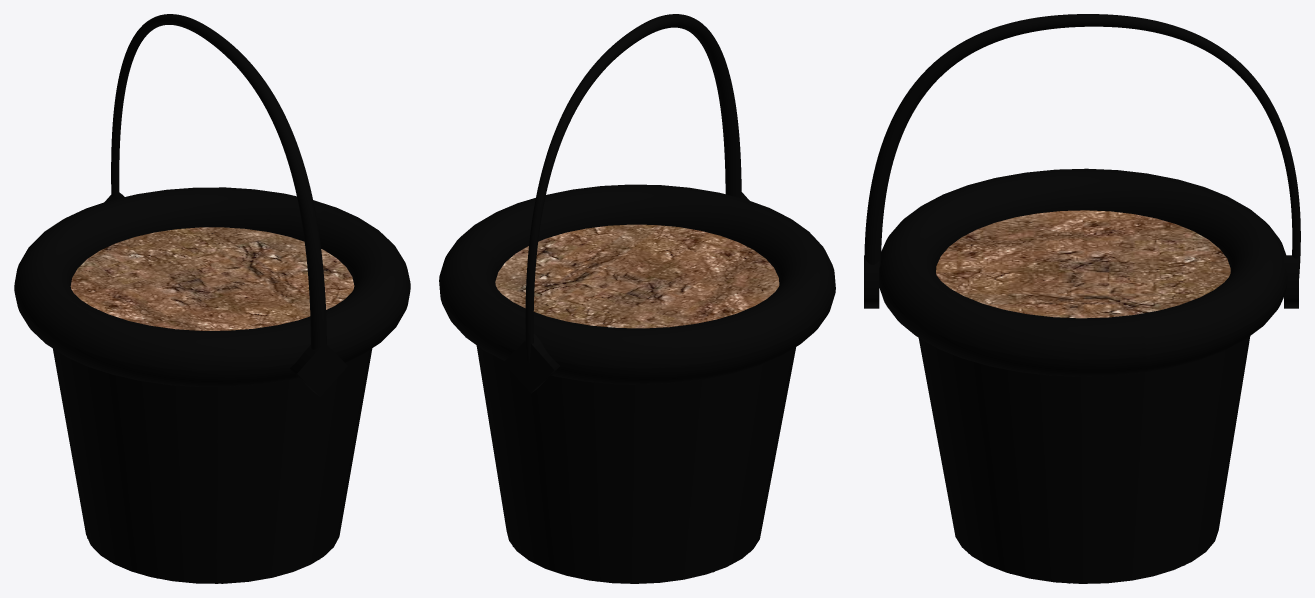
File: mud.fbx
3 views of the same model, side by side, from view 1: azimuth 30°, elevation 25°; view 2: azimuth 150°, elevation 25°; view 3: azimuth 270°, elevation 25° (orthographic). The views are drawn at different scales.
Parts seen in each view (by area): view 1: mud; view 2: mud; view 3: mud.
Boxes of the visible parts, x1=… form: mud: x1=14, y1=14, x2=410, y2=583; mud: x1=439, y1=14, x2=835, y2=583; mud: x1=864, y1=14, x2=1300, y2=583.
Size of the model in its own units: 34.68 by 47.78 by 36.72.
2 materials, 1 textured.
